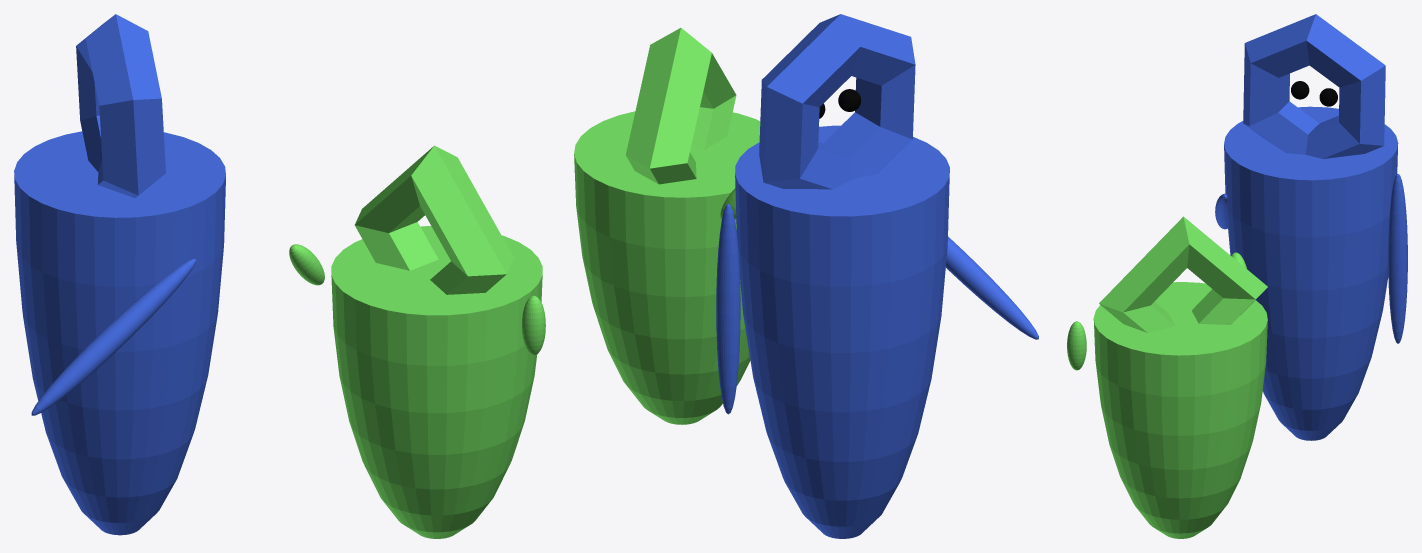
3 renders of one model, left to right at view 1: azimuth 30°, elevation 25°; view 2: azimuth 150°, elevation 25°; view 3: azimuth 270°, elevation 25°, orthographic. The views are drawn at different scales.
Visible parts, largest first — view 1: Sphere.031, Sphere.026, Torus.436, Torus.440, Sphere.033, Sphere.029, Sphere.030; view 2: Sphere.031, Sphere.026, Torus.440, Torus.436, Sphere.032, Sphere.033; view 3: Sphere.031, Sphere.026, Torus.440, Torus.436, Sphere.032, Sphere.029.
Part boxes in pixels (<box>): Sphere.031: <box>14,131,225,535</box>; Sphere.026: <box>331,226,542,538</box>; Torus.436: <box>354,145,513,294</box>; Torus.440: <box>76,14,165,197</box>; Sphere.033: <box>31,259,195,415</box>; Sphere.029: <box>522,295,545,355</box>; Sphere.030: <box>289,244,324,285</box>; Sphere.031: <box>735,125,949,538</box>; Sphere.026: <box>574,111,760,424</box>; Torus.440: <box>759,14,915,189</box>; Torus.436: <box>626,28,736,184</box>; Sphere.032: <box>716,204,740,414</box>; Sphere.033: <box>946,236,1038,339</box>; Sphere.031: <box>1224,106,1398,440</box>; Sphere.026: <box>1093,282,1267,538</box>; Torus.440: <box>1243,14,1385,158</box>; Torus.436: <box>1099,216,1267,332</box>; Sphere.032: <box>1388,174,1407,343</box>; Sphere.029: <box>1067,321,1086,370</box>.
Bounding box in the file's own units: 7.48 × 7.89 × 5.72.
